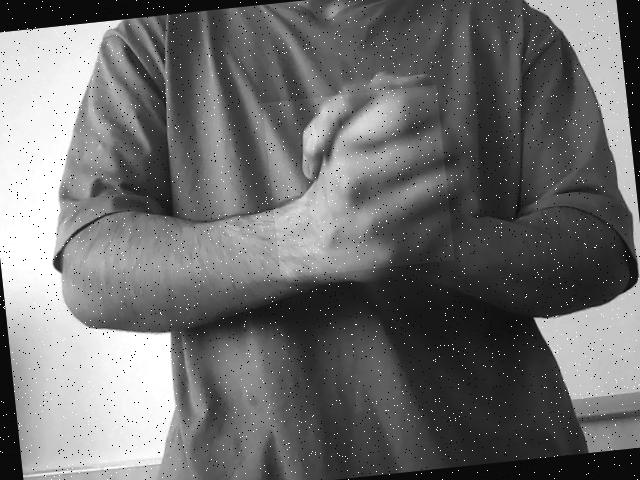friend: (280, 86, 452, 267)
